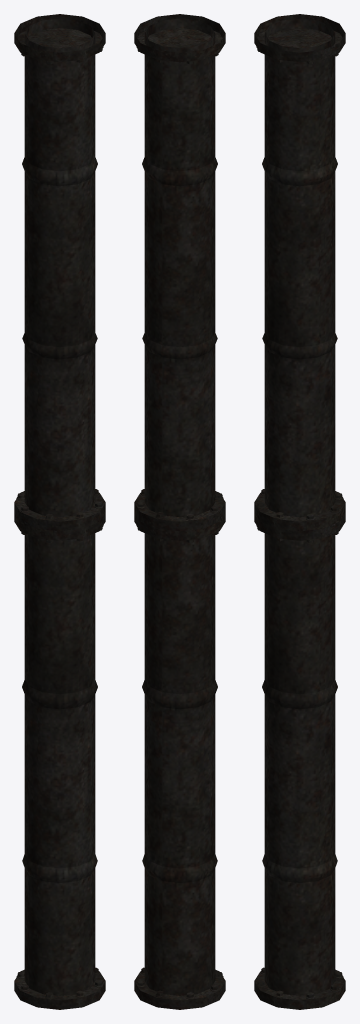
The model's file is pipe_1.obj.
3 views of the same model, side by side, from view 1: azimuth 30°, elevation 25°; view 2: azimuth 150°, elevation 25°; view 3: azimuth 330°, elevation 25° (orthographic).
Parts seen in each view (by area): view 1: pipe_1; view 2: pipe_1; view 3: pipe_1.
Boxes of the visible parts, bbox=[...] form: pipe_1: bbox=[14, 14, 105, 1009]; pipe_1: bbox=[134, 14, 225, 1009]; pipe_1: bbox=[254, 14, 345, 1009].
Bounding box in the file's own units: 0.26 × 3 × 0.26.
